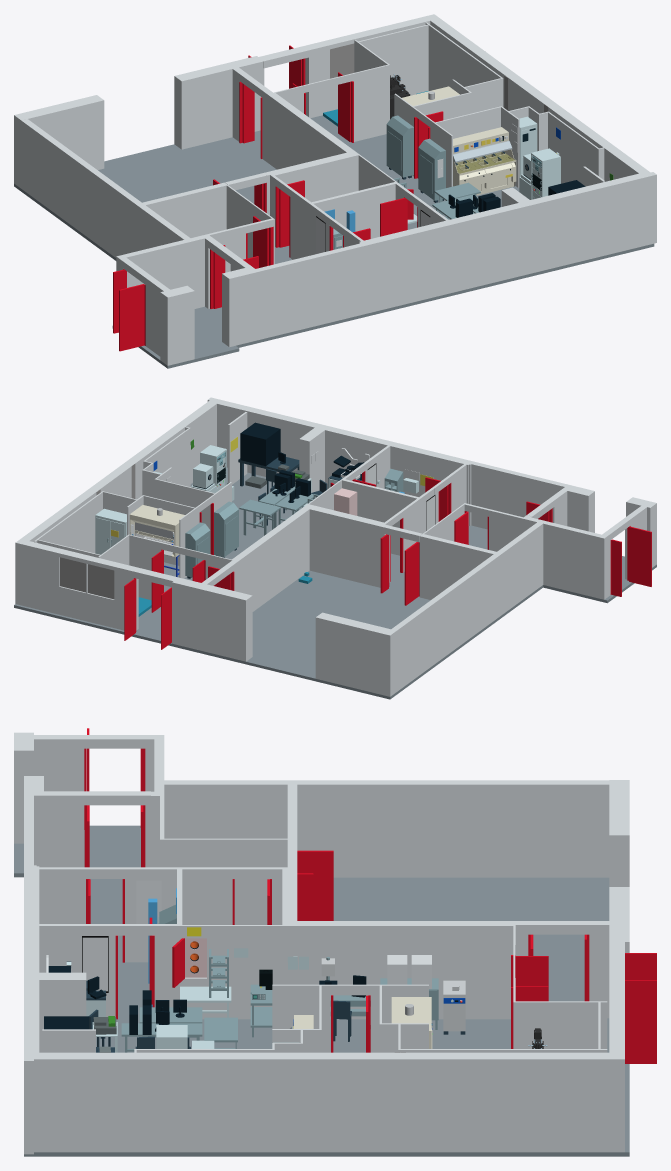
Rendered from Furnished Lab.glb.
3 renders of one model, top to bottom at view 1: azimuth 30°, elevation 25°; view 2: azimuth 150°, elevation 25°; view 3: azimuth 270°, elevation 25°, orthographic. The views are drawn at different scales.
Visible parts, largest first — view 1: lab furnished; view 2: lab furnished; view 3: lab furnished.
Part boxes in pixels (box(x1,y1,x2,y2)): lab furnished: box(14, 14, 656, 368); lab furnished: box(14, 397, 656, 699); lab furnished: box(14, 728, 656, 1156).
Bounding box in the file's own units: 18.12 × 2.4 × 14.37.
